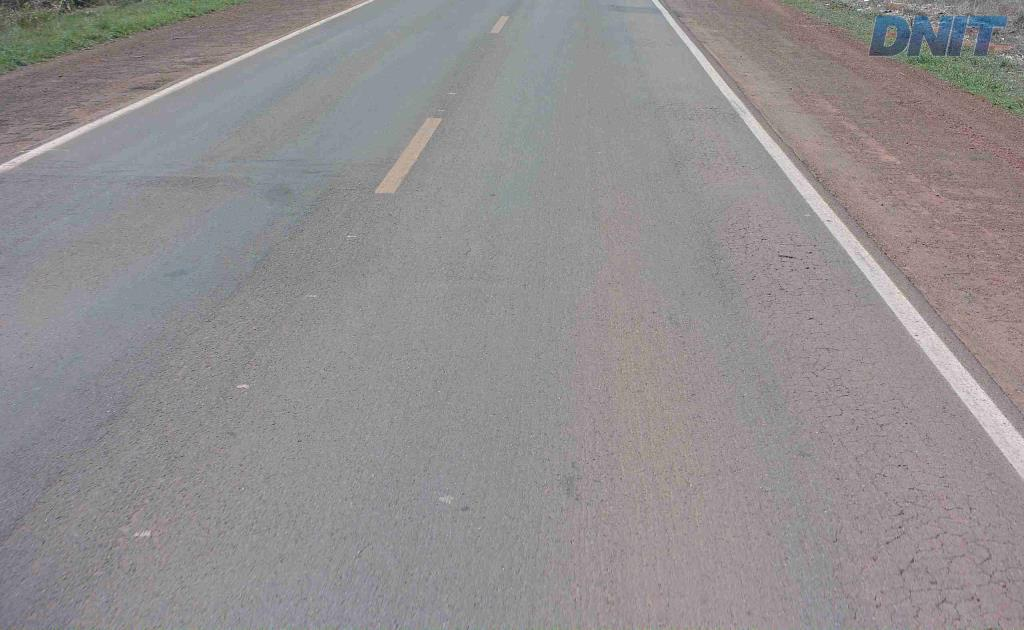crack: (975, 556, 1023, 612), (884, 496, 919, 548)
